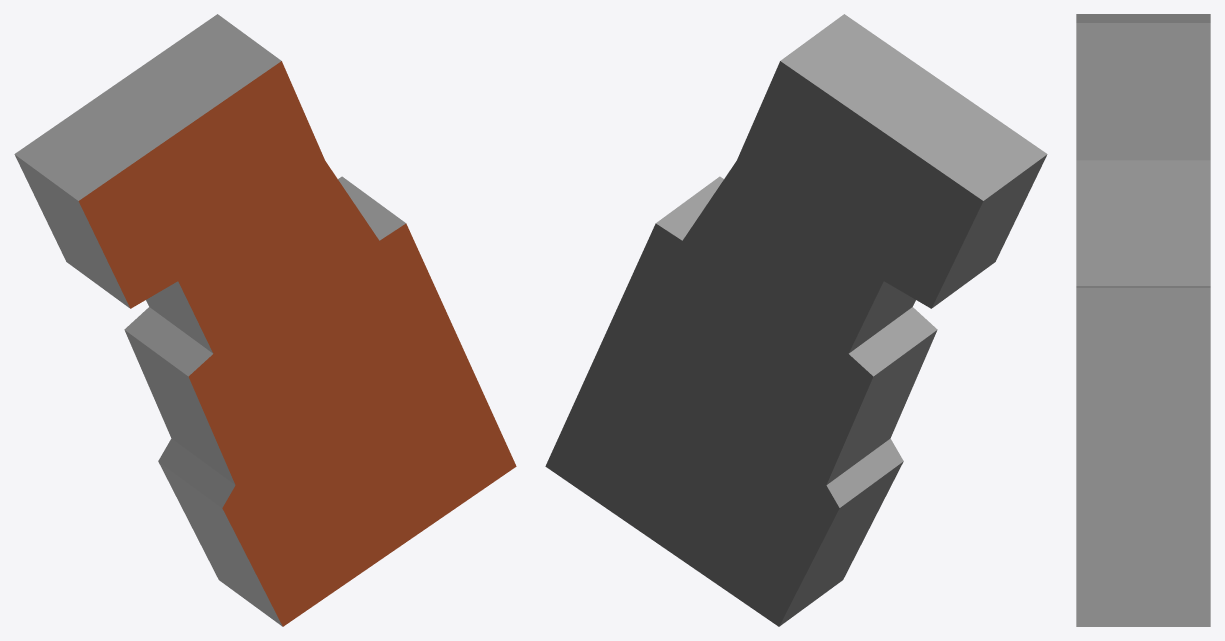
The model's file is construction_0435_assumed_A_Casa_h6m.obj.
The picture shows the model from 3 angles, left to right: view 1: azimuth 30°, elevation 25°; view 2: azimuth 150°, elevation 25°; view 3: azimuth 270°, elevation 25°; orthographic projection. The views are drawn at different scales.
Parts seen in each view (by area): view 1: construction_0435_assumed_A_Casa; view 2: construction_0435_assumed_A_Casa; view 3: construction_0435_assumed_A_Casa.
Part boxes in pixels (x1,y1,x2,y2): construction_0435_assumed_A_Casa: (14, 14, 516, 626); construction_0435_assumed_A_Casa: (545, 14, 1047, 626); construction_0435_assumed_A_Casa: (1076, 14, 1210, 626).
Size of the model in its own units: 23.66 by 29.22 by 6.
